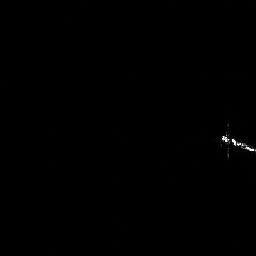ship: (217, 132, 256, 159)
